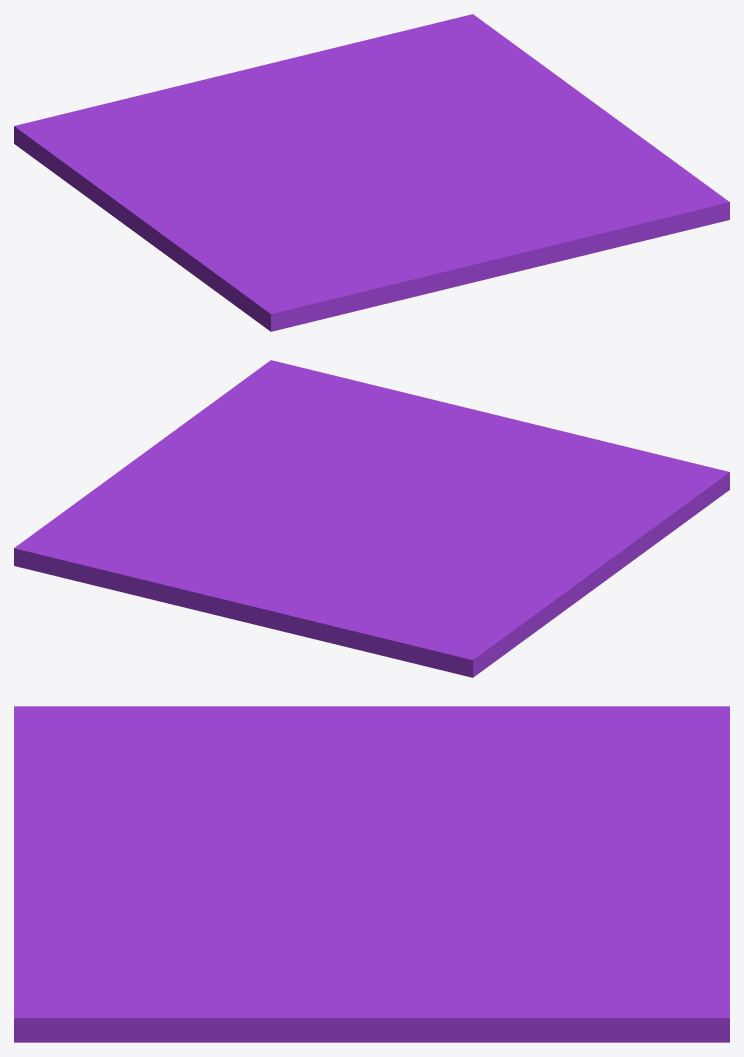
File: Platform_51_chunks.fbx
The picture shows the model from 3 angles, top to bottom: view 1: azimuth 30°, elevation 25°; view 2: azimuth 150°, elevation 25°; view 3: azimuth 270°, elevation 25°; orthographic projection. The views are drawn at different scales.
Parts seen in each view (by area): view 1: Platform_51_1, Platform_51_0, Platform_51_5, Platform_51_3, Platform_51_6, Platform_51_8, Platform_51_10, Platform_51_9, Platform_51_4, Platform_51_11, Platform_51_12; view 2: Platform_51_1, Platform_51_5, Platform_51_0, Platform_51_8, Platform_51_3, Platform_51_6, Platform_51_10, Platform_51_9, Platform_51_4, Platform_51_11, Platform_51_12; view 3: Platform_51_1, Platform_51_3, Platform_51_5, Platform_51_0, Platform_51_6, Platform_51_8, Platform_51_4, Platform_51_10, Platform_51_9, Platform_51_11, Platform_51_12.
Part boxes in pixels (bbox=[...]): Platform_51_1: bbox=[360, 136, 729, 269]; Platform_51_0: bbox=[221, 182, 526, 331]; Platform_51_5: bbox=[217, 14, 496, 120]; Platform_51_3: bbox=[421, 32, 638, 150]; Platform_51_6: bbox=[191, 146, 370, 295]; Platform_51_8: bbox=[79, 76, 342, 162]; Platform_51_10: bbox=[14, 110, 140, 202]; Platform_51_9: bbox=[95, 177, 229, 272]; Platform_51_4: bbox=[298, 108, 481, 160]; Platform_51_11: bbox=[131, 127, 240, 185]; Platform_51_12: bbox=[91, 163, 180, 199]; Platform_51_1: bbox=[180, 360, 526, 512]; Platform_51_5: bbox=[14, 520, 319, 629]; Platform_51_0: bbox=[414, 422, 729, 525]; Platform_51_8: bbox=[269, 530, 434, 663]; Platform_51_3: bbox=[38, 426, 288, 530]; Platform_51_6: bbox=[349, 501, 690, 558]; Platform_51_10: bbox=[408, 595, 554, 677]; Platform_51_9: bbox=[486, 527, 654, 618]; Platform_51_4: bbox=[232, 476, 366, 558]; Platform_51_11: bbox=[417, 551, 493, 616]; Platform_51_12: bbox=[486, 573, 573, 608]; Platform_51_1: bbox=[14, 844, 381, 1042]; Platform_51_3: bbox=[245, 926, 662, 1042]; Platform_51_5: bbox=[498, 844, 729, 1042]; Platform_51_0: bbox=[14, 706, 330, 844]; Platform_51_6: bbox=[125, 706, 465, 863]; Platform_51_8: bbox=[444, 750, 729, 859]; Platform_51_4: bbox=[334, 854, 547, 927]; Platform_51_10: bbox=[515, 706, 729, 764]; Platform_51_9: bbox=[225, 706, 467, 774]; Platform_51_11: bbox=[410, 745, 644, 795]; Platform_51_12: bbox=[449, 706, 534, 755].
Bounding box in the file's own units: 810 × 29.87 × 786.
